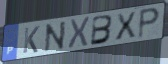B: (89, 14, 115, 47)
K: (21, 25, 41, 55)
N: (44, 20, 68, 54)
P: (137, 6, 162, 41)
X: (67, 16, 91, 50), (114, 11, 138, 43)
